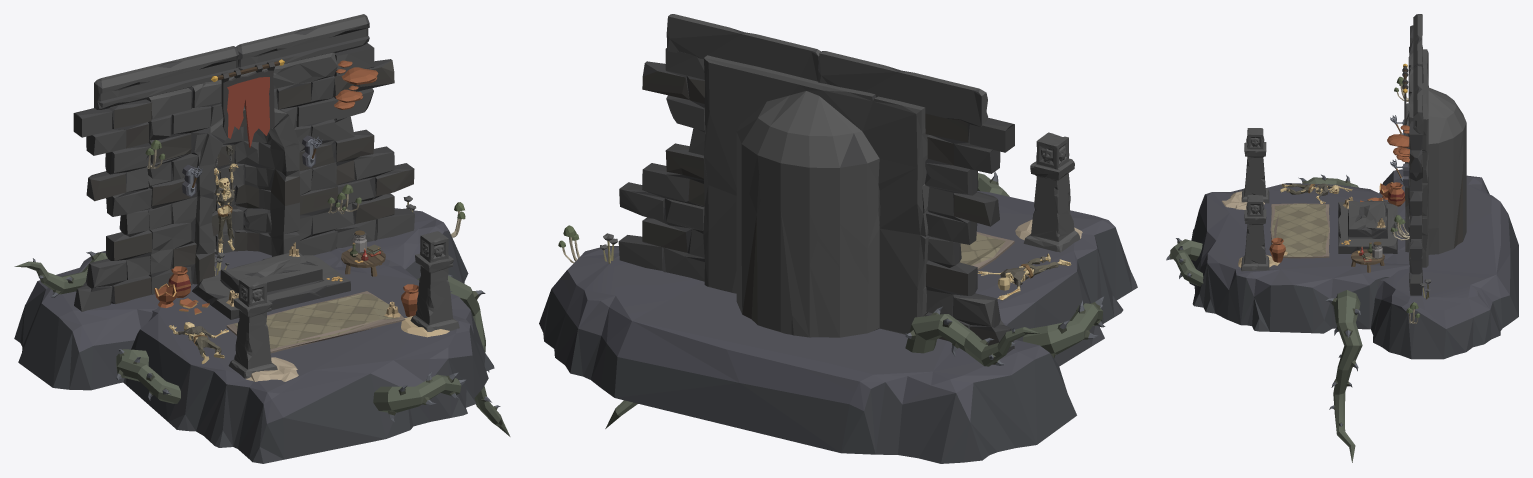
File: lootBoxScene.glb
3 renders of one model, left to right at view 1: azimuth 30°, elevation 25°; view 2: azimuth 150°, elevation 25°; view 3: azimuth 270°, elevation 25°, orthographic. The views are drawn at different scales.
Parts seen in each view (by area): view 1: Scene; view 2: Scene; view 3: Scene.
Boxes of the visible parts, x1,y1,x2,y2 form: Scene: (14,14,510,463); Scene: (539,14,1137,463); Scene: (1166,14,1518,462).
Size of the model in its own units: 11.74 by 10.67 by 10.85.
4 materials, 4 textured.
